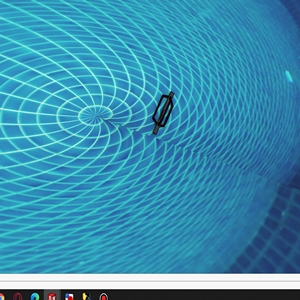submarine: (150, 88, 174, 135)
